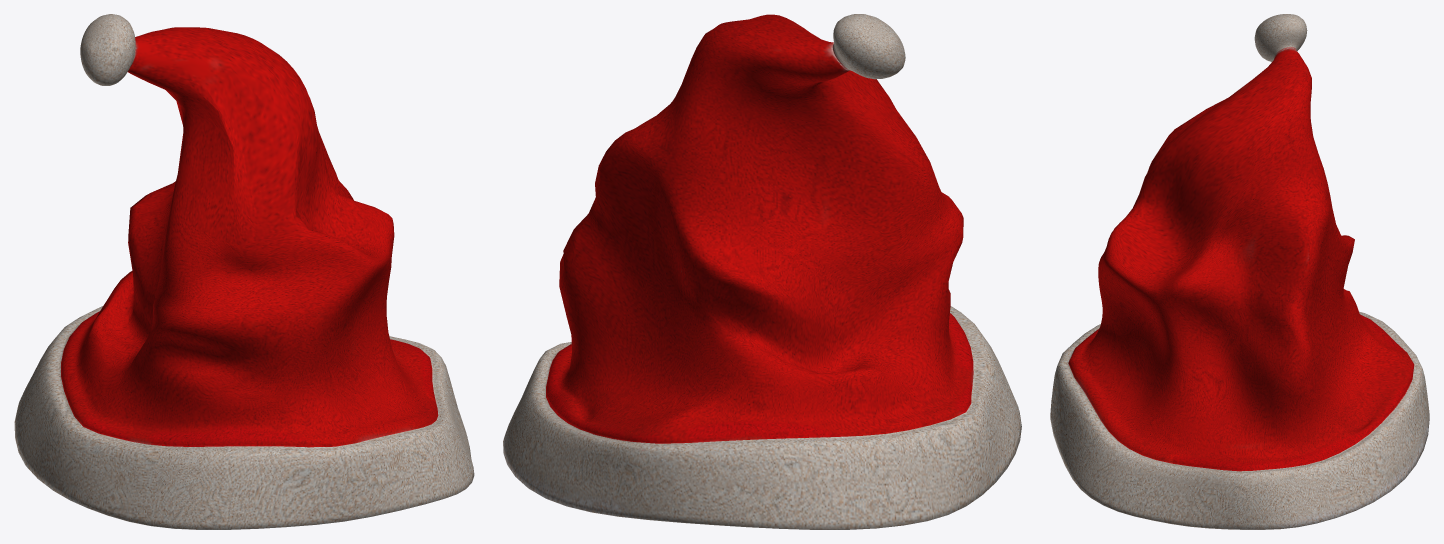
The model's file is SantaHat.fbx.
3 renders of one model, left to right at view 1: azimuth 30°, elevation 25°; view 2: azimuth 150°, elevation 25°; view 3: azimuth 270°, elevation 25°, orthographic. The views are drawn at different scales.
Parts seen in each view (by area): view 1: Cone; view 2: Cone; view 3: Cone.
Part boxes in pixels (x1,y1,x2,y2): Cone: (14,14,474,529); Cone: (503,14,1021,529); Cone: (1050,14,1429,529).
Size of the model in its own units: 1.87 by 2.03 by 1.79.
